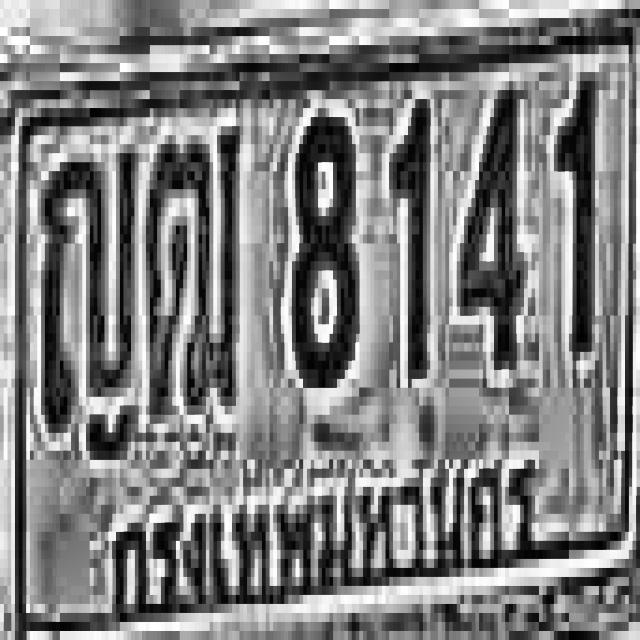license-plate: (15, 23, 640, 640)
